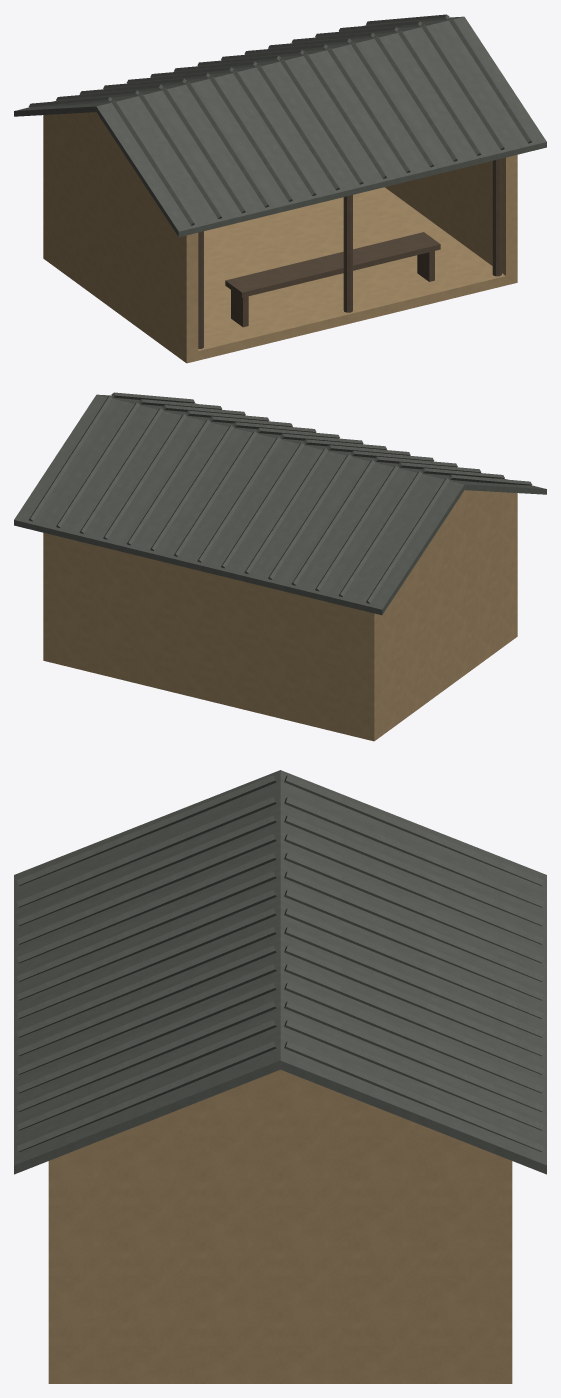
The picture shows the model from 3 angles, top to bottom: view 1: azimuth 30°, elevation 25°; view 2: azimuth 150°, elevation 25°; view 3: azimuth 270°, elevation 25°; orthographic projection. The views are drawn at different scales.
Parts seen in each view (by area): view 1: S86-static-LY_P01_tile__PBR, S86-static-LY_P01_earth__PBR, S86-static-LY_P01_timber__PBR; view 2: S86-static-LY_P01_earth__PBR, S86-static-LY_P01_tile__PBR; view 3: S86-static-LY_P01_tile__PBR, S86-static-LY_P01_earth__PBR.
Boxes of the visible parts, x1,y1,x2,y2 form: S86-static-LY_P01_tile__PBR: [14, 14, 546, 237]; S86-static-LY_P01_earth__PBR: [43, 112, 517, 363]; S86-static-LY_P01_timber__PBR: [198, 158, 501, 348]; S86-static-LY_P01_earth__PBR: [43, 490, 517, 741]; S86-static-LY_P01_tile__PBR: [14, 392, 546, 615]; S86-static-LY_P01_tile__PBR: [14, 770, 546, 1174]; S86-static-LY_P01_earth__PBR: [48, 1069, 512, 1383].
Size of the model in its own units: 8.9 by 4.93 by 6.9.
Materials: 3 (3 with a texture image).
